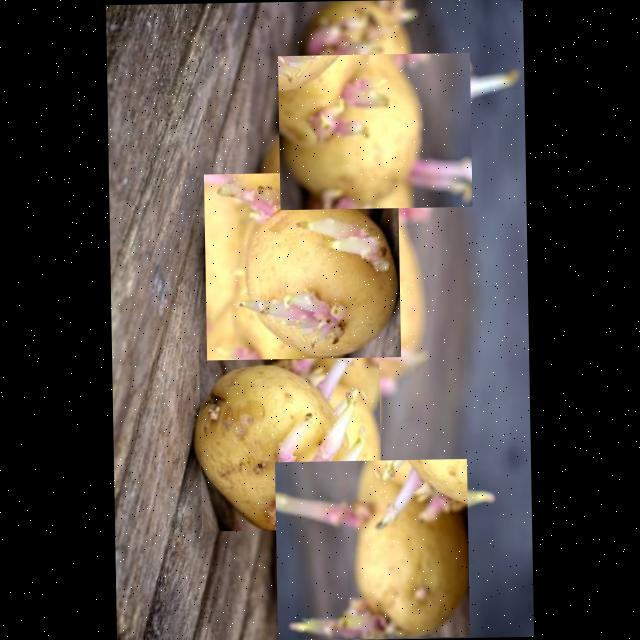Sprouted potato: (204, 170, 400, 359), (274, 458, 470, 638), (198, 339, 382, 530), (277, 52, 472, 208)
